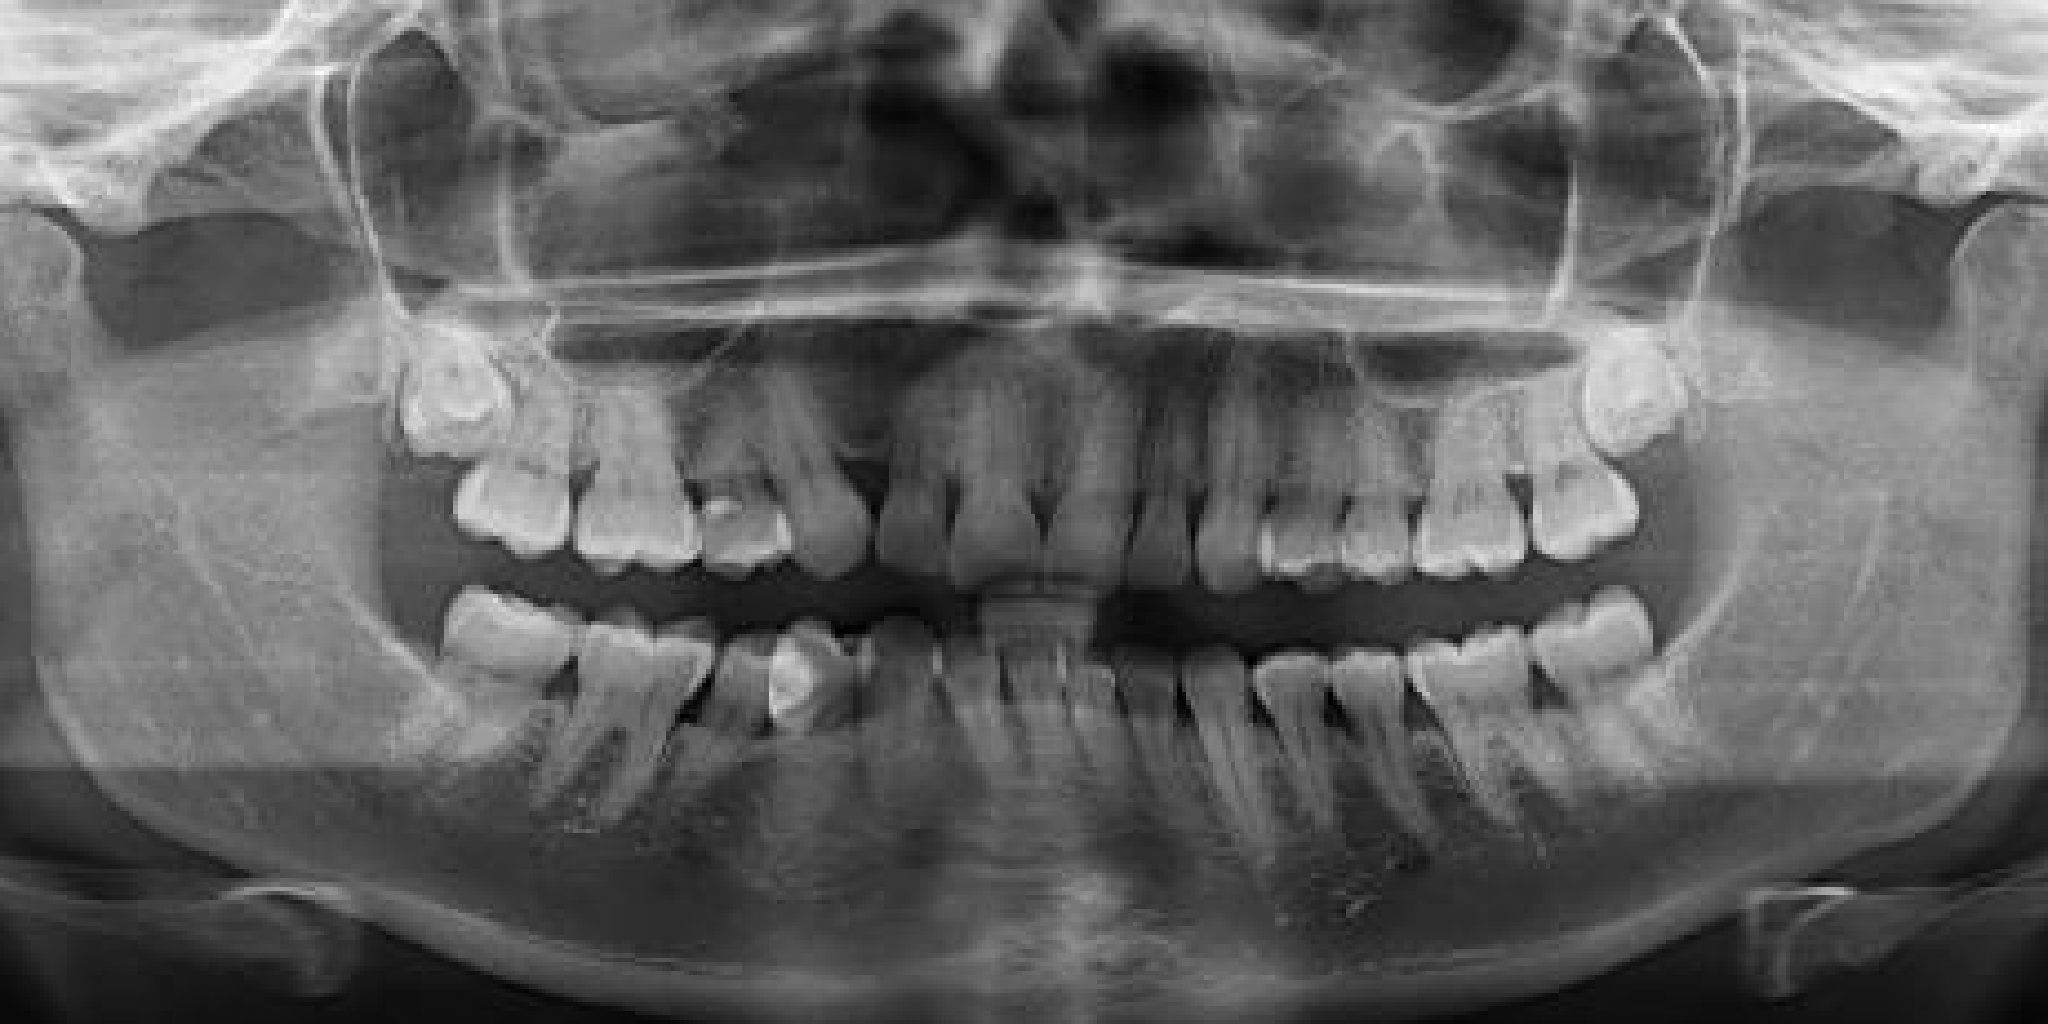Tooth: (1509, 569, 1716, 828), (639, 611, 831, 853), (440, 333, 613, 573), (728, 344, 889, 594), (820, 606, 956, 884), (364, 281, 538, 482), (558, 346, 701, 583), (1032, 351, 1149, 598), (1251, 359, 1368, 597), (674, 353, 797, 577), (1315, 355, 1426, 592), (1191, 334, 1284, 596), (1567, 298, 1701, 464), (1000, 614, 1091, 831), (931, 618, 1032, 808)
